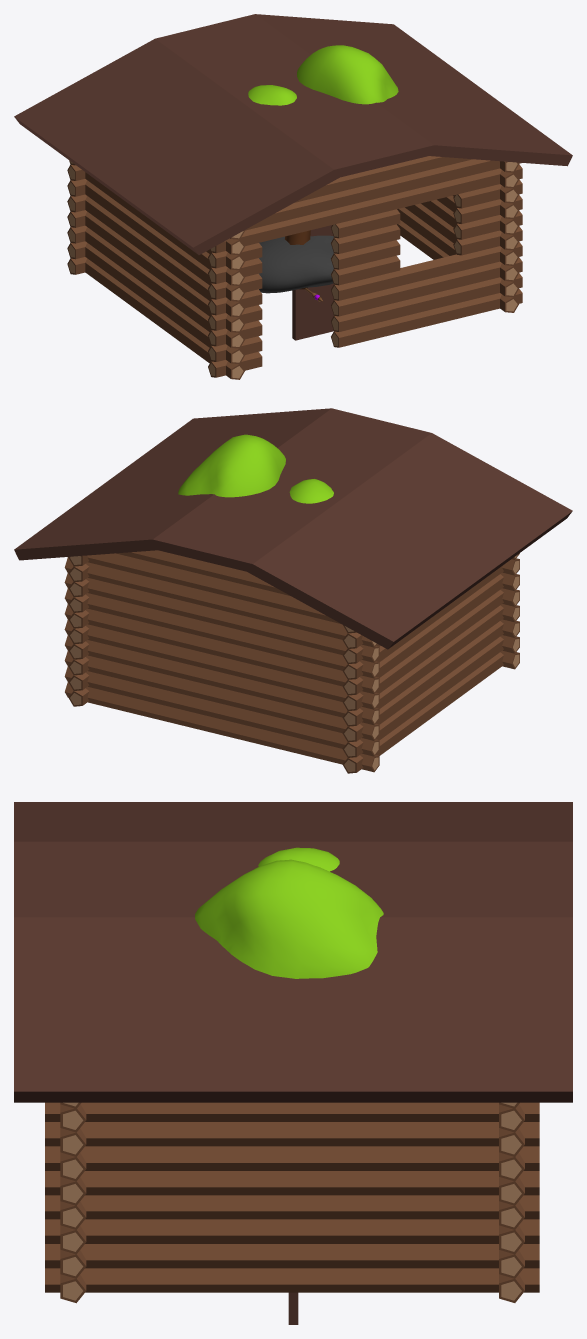
The model's file is Models.fbx.
3 renders of one model, top to bottom at view 1: azimuth 30°, elevation 25°; view 2: azimuth 150°, elevation 25°; view 3: azimuth 270°, elevation 25°, orthographic. The views are drawn at different scales.
Visible parts, largest first — view 1: House, Tree2, Rock, Door; view 2: House, Tree2; view 3: House, Tree2.
Boxes of the visible parts, box(x1,y1,x2,y2) form: House: box(14, 14, 572, 379); Tree2: box(248, 45, 398, 105); Rock: box(259, 235, 333, 293); Door: box(292, 225, 333, 340); House: box(14, 408, 572, 773); Tree2: box(178, 434, 333, 503); House: box(14, 802, 572, 1303); Tree2: box(195, 847, 383, 978).
Bounding box in the file's own units: 1462 × 1032 × 1195.
